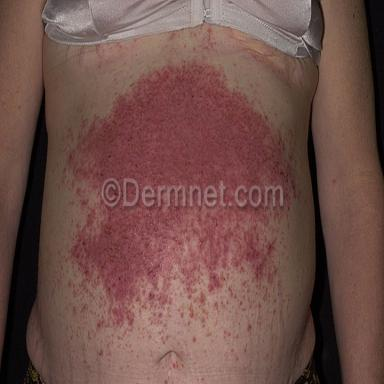Darier_s-Disease: (68, 58, 298, 335)
